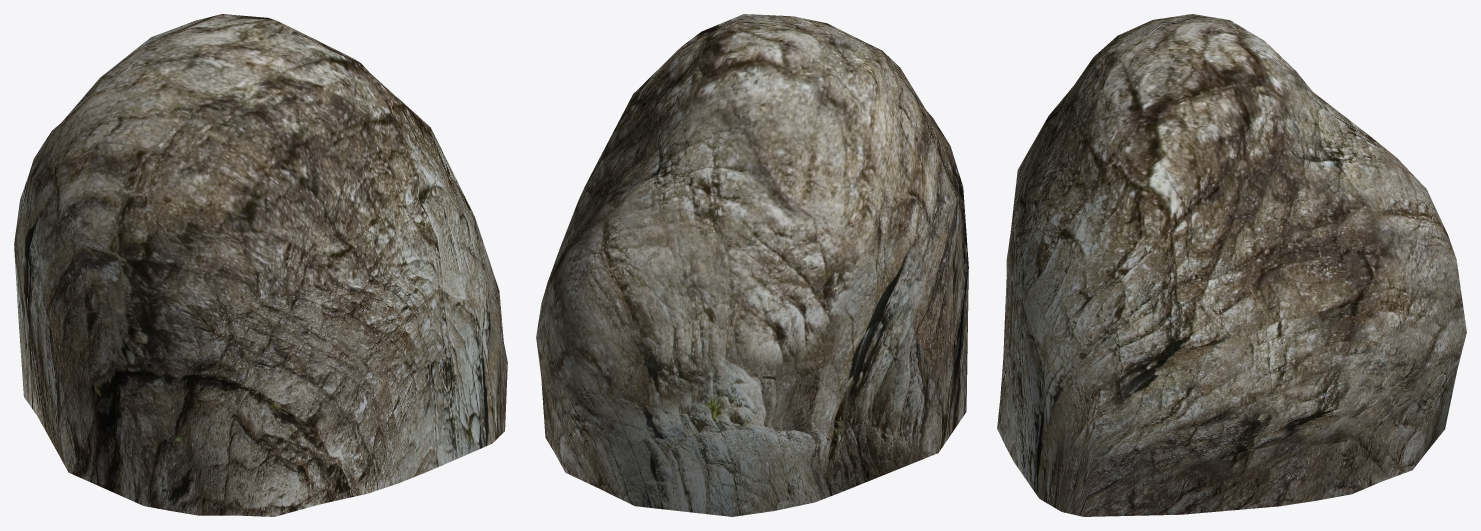
File: Rock.fbx
The picture shows the model from 3 angles, left to right: view 1: azimuth 30°, elevation 25°; view 2: azimuth 150°, elevation 25°; view 3: azimuth 270°, elevation 25°; orthographic projection. The views are drawn at different scales.
Parts seen in each view (by area): view 1: RockMesh; view 2: RockMesh; view 3: RockMesh.
Part boxes in pixels (x1,y1,x2,y2): RockMesh: (14, 14, 507, 516); RockMesh: (536, 14, 968, 516); RockMesh: (997, 14, 1466, 516).
Size of the model in its own units: 4.17 by 4.03 by 4.49.
1 material, 1 textured.
